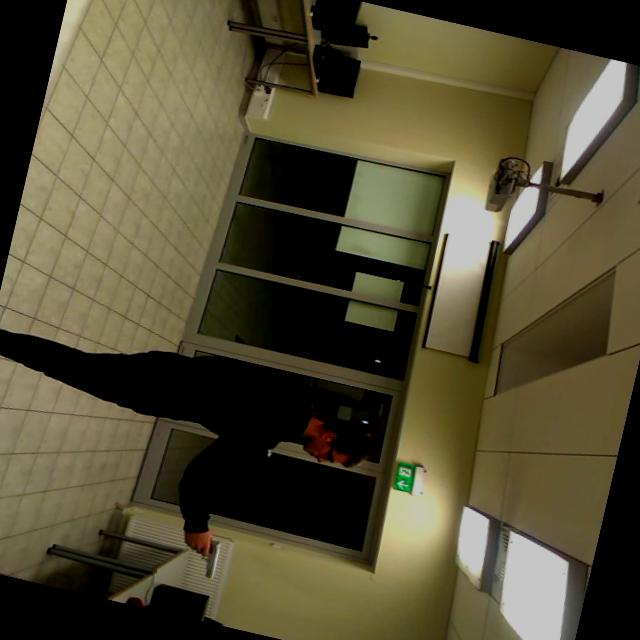handgun: (174, 513, 240, 586)
